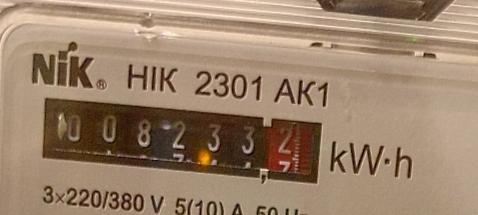0: (62, 110, 85, 144), (98, 112, 119, 144)
2: (167, 118, 189, 152), (275, 123, 295, 156)
3: (203, 120, 223, 153), (239, 122, 258, 155)
8: (133, 115, 153, 148)
screen: (28, 85, 334, 193)
